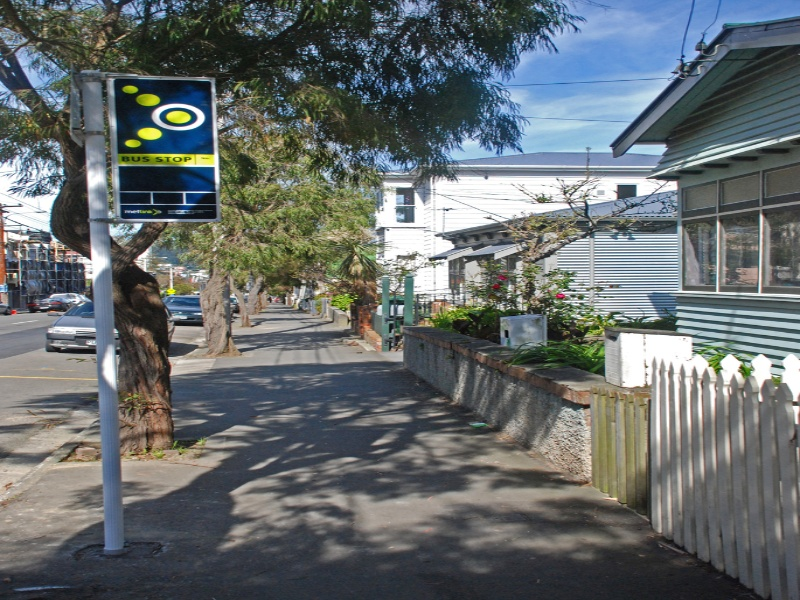bus_stop: (107, 71, 229, 228)
